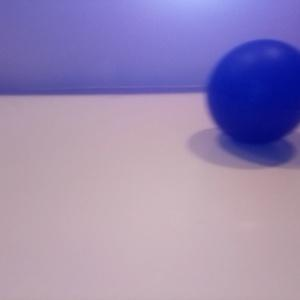dead_ball: (206, 37, 300, 144)
